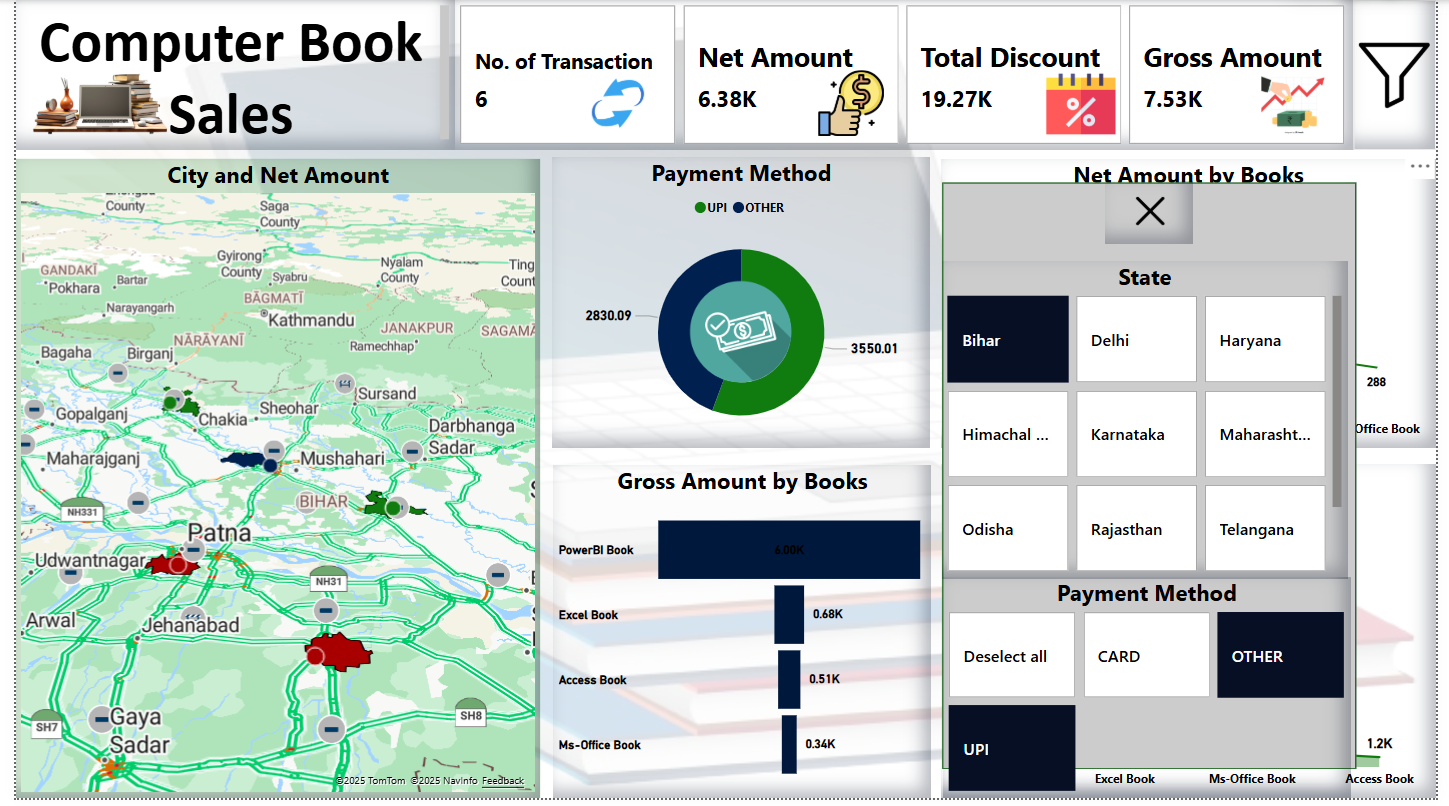

What the dashboard file says about the page in this screenshot:
{"tool":"powerbi","page":{"name":"Book sales Dashboards","canvas":[1280,720],"ordinal":0},"visuals":[{"type":"textbox","box":[0,0,395.7,135.1],"z":0},{"type":"shape","box":[835.2,165.1,373.3,529.1],"z":0,"group":"g1"},{"type":"areaChart","fields":{"Category":["7 Days Books Sales Report File.Books"],"Y":["Sum(7 Days Books Sales Report File.Discount)"]},"box":[833.7,418.6,446.4,301.6],"z":1000},{"type":"advancedSlicerVisual","fields":{"Values":["7 Days Books Sales Report File.State"]},"box":[835,236.2,365.6,286.1],"z":2000,"group":"g1"},{"type":"lineChart","fields":{"Category":["7 Days Books Sales Report File.Books"],"Y":["Sum(7 Days Books Sales Report File.Net Amount)"]},"box":[833.7,143.6,446.4,260.6],"z":2000},{"type":"advancedSlicerVisual","fields":{"Values":["7 Days Books Sales Report File.Payment Method"]},"box":[836.2,521.1,366.8,198.1],"z":3000,"group":"g1"},{"type":"funnel","title":"Gross Amount by Books","fields":{"Category":["7 Days Books Sales Report File.Books"],"Y":["Sum(7 Days Books Sales Report File.Gross Amount)"]},"box":[484.2,418.8,340.9,300.5],"z":3000},{"type":"image","box":[981,163.9,80.4,56.5],"z":4000,"group":"g1"},{"type":"donutChart","title":"Payment Method","fields":{"Category":["7 Days Books Sales Report File.Payment Method"],"Y":["Sum(7 Days Books Sales Report File.Net Amount)"]},"box":[483,141.8,341.2,261.7],"z":4000},{"type":"image","box":[602,235.3,103.8,127.9],"z":5000},{"type":"azureMap","fields":{"Category":["7 Days Books Sales Report File.City"],"Series":["7 Days Books Sales Report File.Net Amount"]},"box":[0,143.6,472.9,576.7],"z":6000},{"type":"cardVisual","fields":{"Data":["CountNonNull(7 Days Books Sales Report File.User ID)","Sum(7 Days Books Sales Report File.Net Amount)","Sum(7 Days Books Sales Report File.Discount)","Sum(7 Days Books Sales Report File.Gross Amount)"]},"box":[395.7,0,809.5,135.1],"z":7000},{"type":"group","id":"g1","title":"Group 1","box":[835,163.9,373.5,555.3],"z":8000},{"type":"image","box":[1206.1,0,73.9,135.3],"z":9000},{"type":"image","box":[483.8,59.1,118.2,68.8],"z":10000},{"type":"image","box":[714.2,59.1,77.2,68.8],"z":11000},{"type":"image","box":[924.1,53.1,72.4,82],"z":12000},{"type":"image","box":[1099.1,59.1,107.4,68.8],"z":13000},{"type":"image","box":[0,22.9,152,143.6],"z":14000}]}

Visuals, with their boxes in screenshot pixels (x1, y1, x2, y2), scaled from the page's 1280x720 canvas onto the 1449x806 screenshot:
textbox: BBox(0, 0, 448, 151)
shape: BBox(945, 185, 1368, 777)
areaChart - 7 Days Books Sales Report File.Books x Sum(7 Days Books Sales Report File.Discount): BBox(944, 469, 1448, 805)
advancedSlicerVisual - 7 Days Books Sales Report File.State: BBox(945, 264, 1359, 585)
lineChart - 7 Days Books Sales Report File.Books x Sum(7 Days Books Sales Report File.Net Amount): BBox(944, 161, 1448, 452)
advancedSlicerVisual - 7 Days Books Sales Report File.Payment Method: BBox(947, 583, 1362, 805)
"Gross Amount by Books" funnel: BBox(548, 469, 934, 805)
image: BBox(1111, 183, 1202, 247)
"Payment Method" donutChart: BBox(547, 159, 933, 452)
image: BBox(681, 263, 799, 407)
azureMap - 7 Days Books Sales Report File.City x 7 Days Books Sales Report File.Net Amount: BBox(0, 161, 535, 805)
cardVisual - CountNonNull(7 Days Books Sales Report File.User ID) x Sum(7 Days Books Sales Report File.Net Amount): BBox(448, 0, 1364, 151)
"Group 1" group: BBox(945, 183, 1368, 805)
image: BBox(1365, 0, 1448, 151)
image: BBox(548, 66, 681, 143)
image: BBox(808, 66, 896, 143)
image: BBox(1046, 59, 1128, 151)
image: BBox(1244, 66, 1366, 143)
image: BBox(0, 26, 172, 186)
